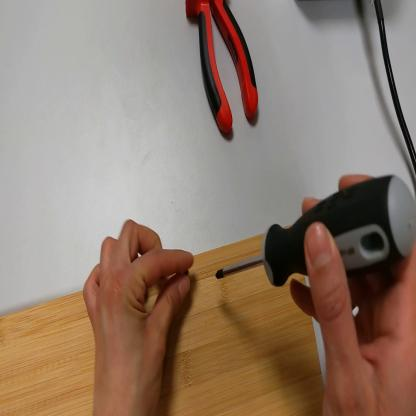hand: (290, 179, 416, 416), (85, 222, 196, 413)
pliers: (186, 2, 259, 136)
screwdriver-: (217, 176, 415, 285)
working area: (2, 223, 326, 415)
